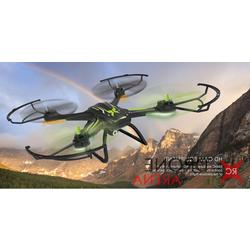drone: (7, 72, 222, 163)
